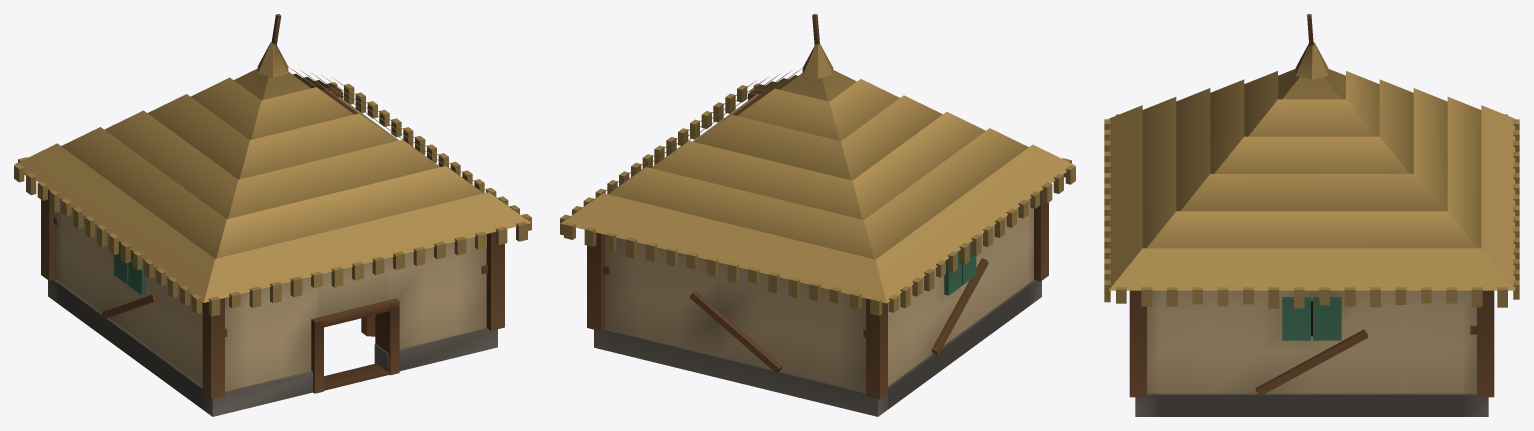
The model's file is gh_hut.glb.
3 renders of one model, left to right at view 1: azimuth 30°, elevation 25°; view 2: azimuth 150°, elevation 25°; view 3: azimuth 270°, elevation 25°, orthographic. The views are drawn at different scales.
Parts seen in each view (by area): view 1: gh_hut; view 2: gh_hut; view 3: gh_hut.
Boxes of the visible parts, left/top/right/bottom form: gh_hut: left=14, top=14, right=531, bottom=416; gh_hut: left=560, top=14, right=1075, bottom=416; gh_hut: left=1104, top=14, right=1519, bottom=416.
Size of the model in its own units: 7.66 by 6.71 by 7.66.
